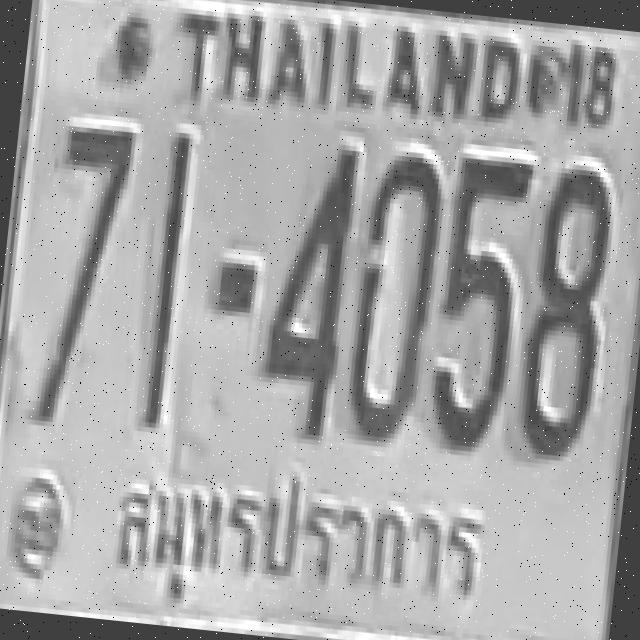0: (341, 147, 445, 436)
1: (144, 128, 192, 388)
4: (253, 134, 358, 436)
5: (422, 154, 530, 452)
7: (27, 120, 133, 426), (36, 122, 134, 400), (46, 123, 134, 329), (49, 120, 135, 308)
8: (510, 160, 615, 458)
SamutPrakan: (106, 443, 495, 640)
